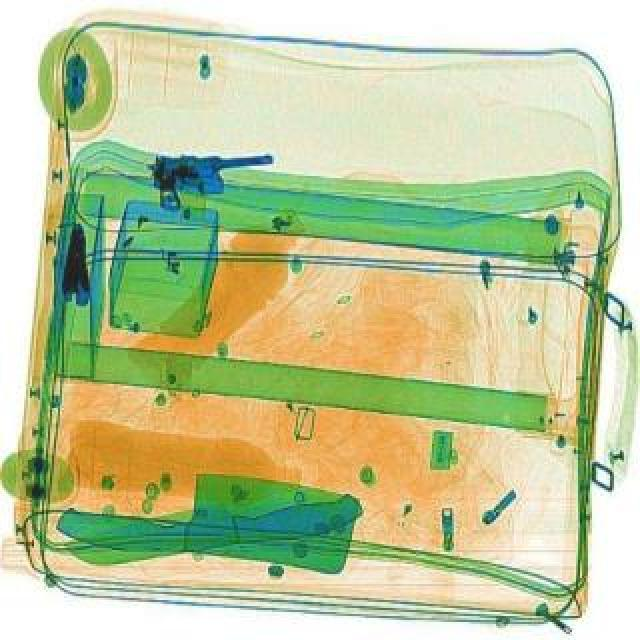gun: (146, 146, 274, 210), (56, 222, 100, 306)
knife: (56, 454, 360, 574), (58, 484, 366, 568)
